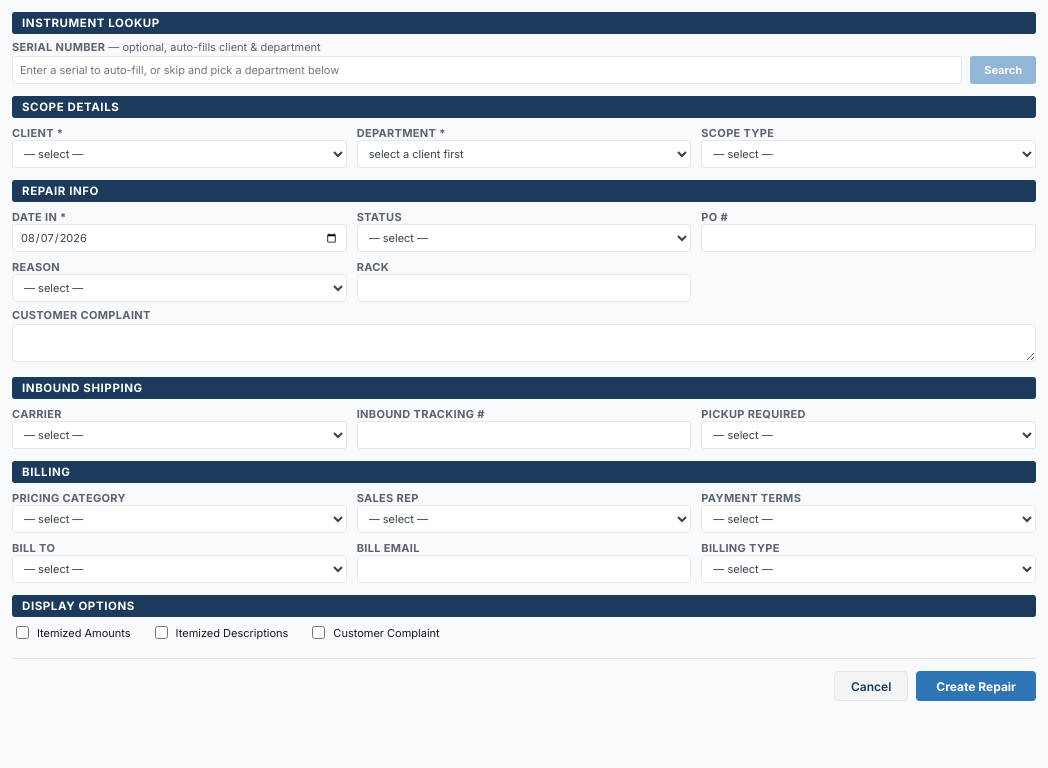
Test: NewRepairModal › disambiguates when one serial matches multiple scopes
Expected: the dropdown labelled "Department" is shown, [357,140,691,168]
Step 1. Replace the text in the field named "Instrument serial number lookup" with "12345" → (487, 70), box [12,56,962,84]
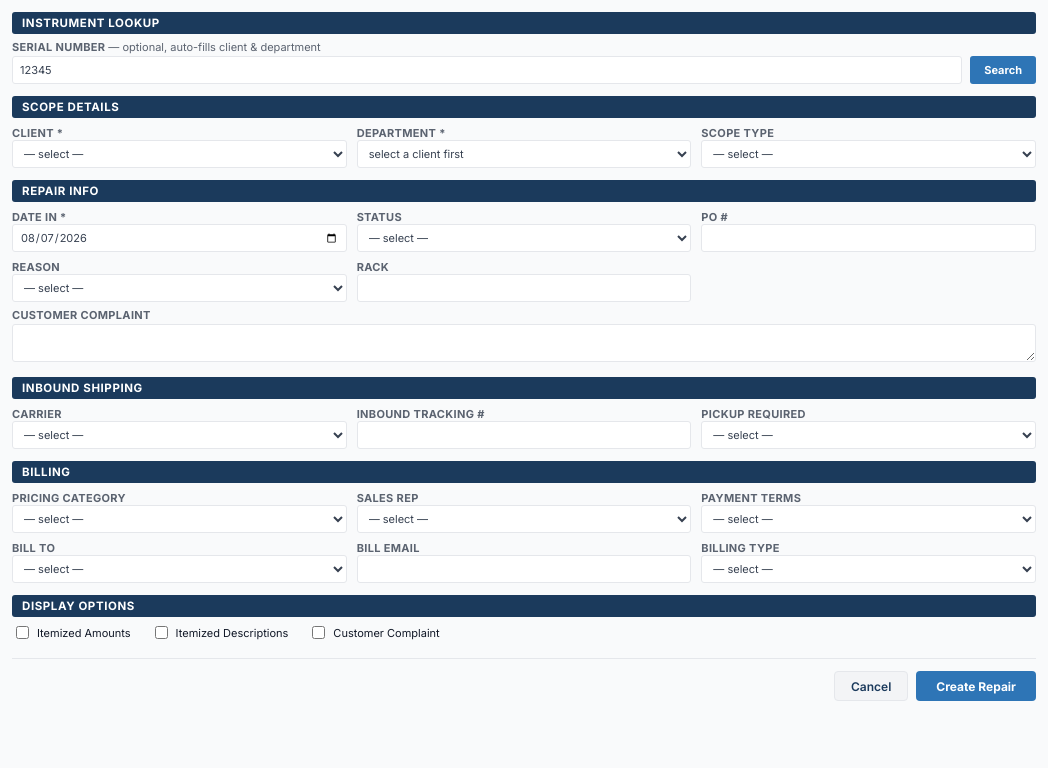
Step 2. Click the button "Search" → (1003, 70), box [970,56,1036,84]
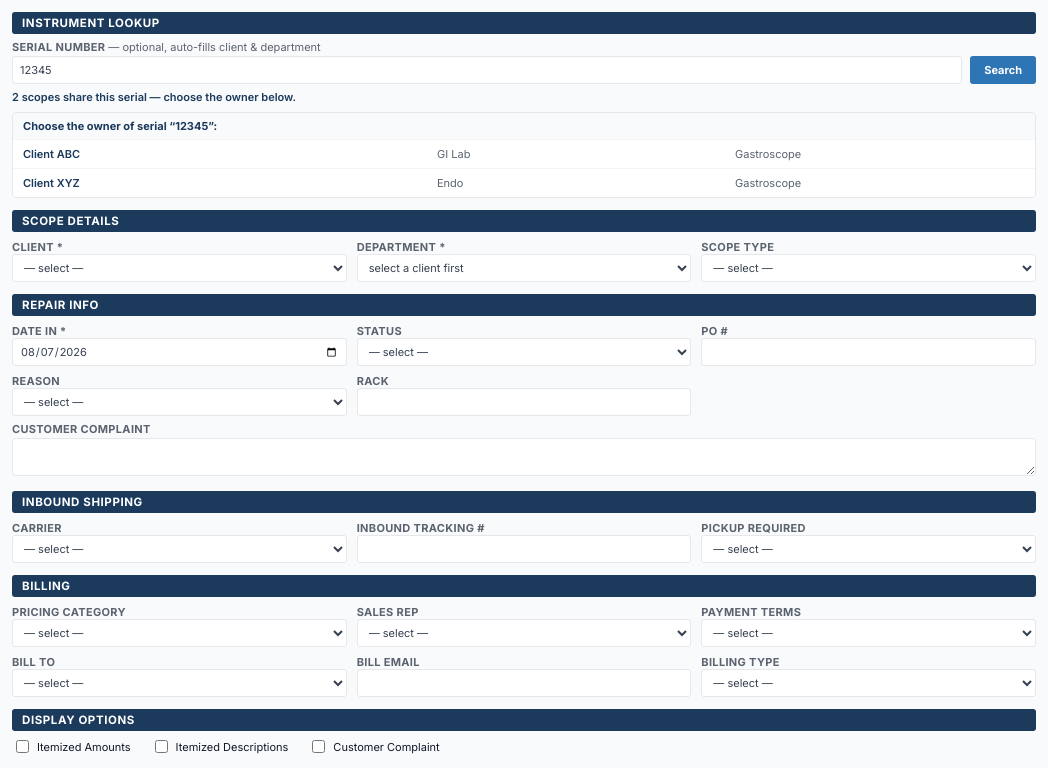
Now the text "Client ABC" is shown, box [23,147,80,161]
Now the text "Client XYZ" is shown, box [23,176,80,190]
